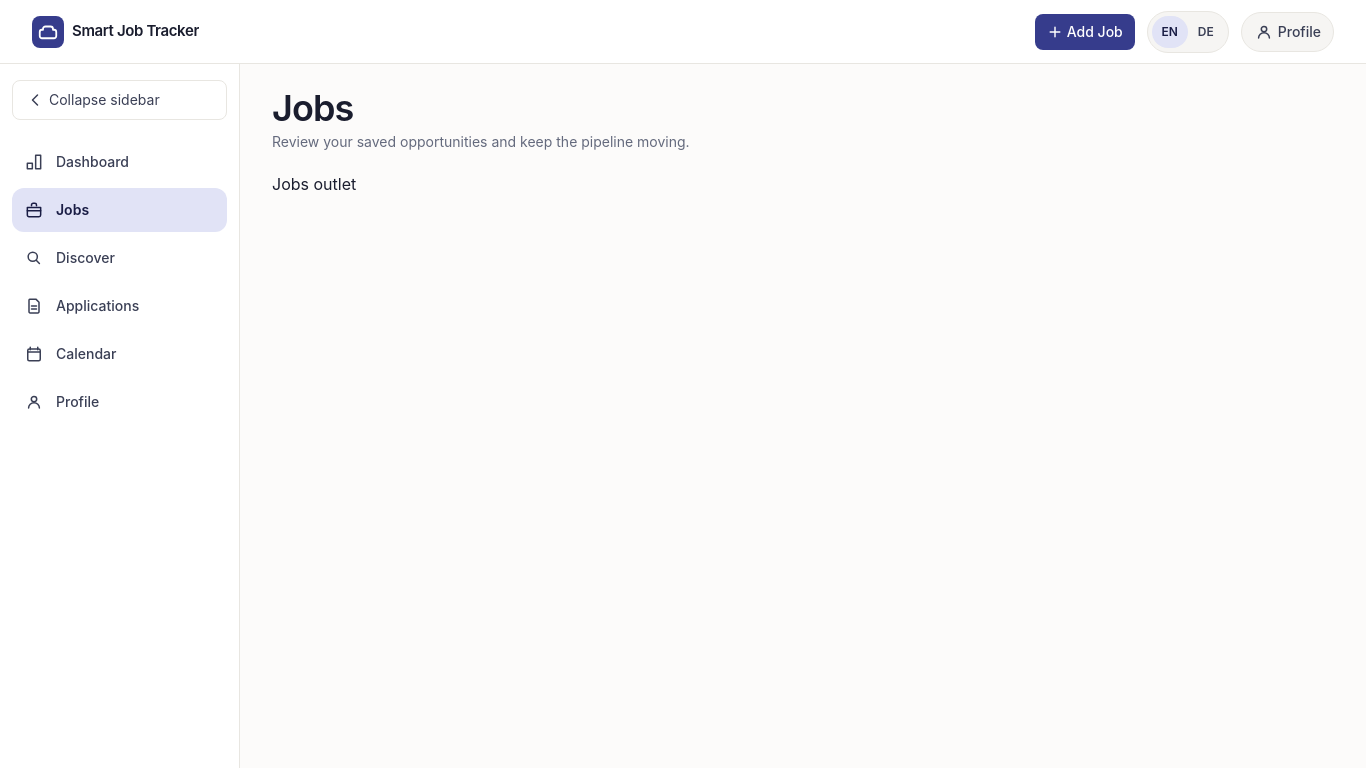
Test: AppShell › navigates through accessible navigation links
The width and height of the screenshot is (1366, 768).
Click the link "Dashboard": [76, 162] box [24,152,129,172]
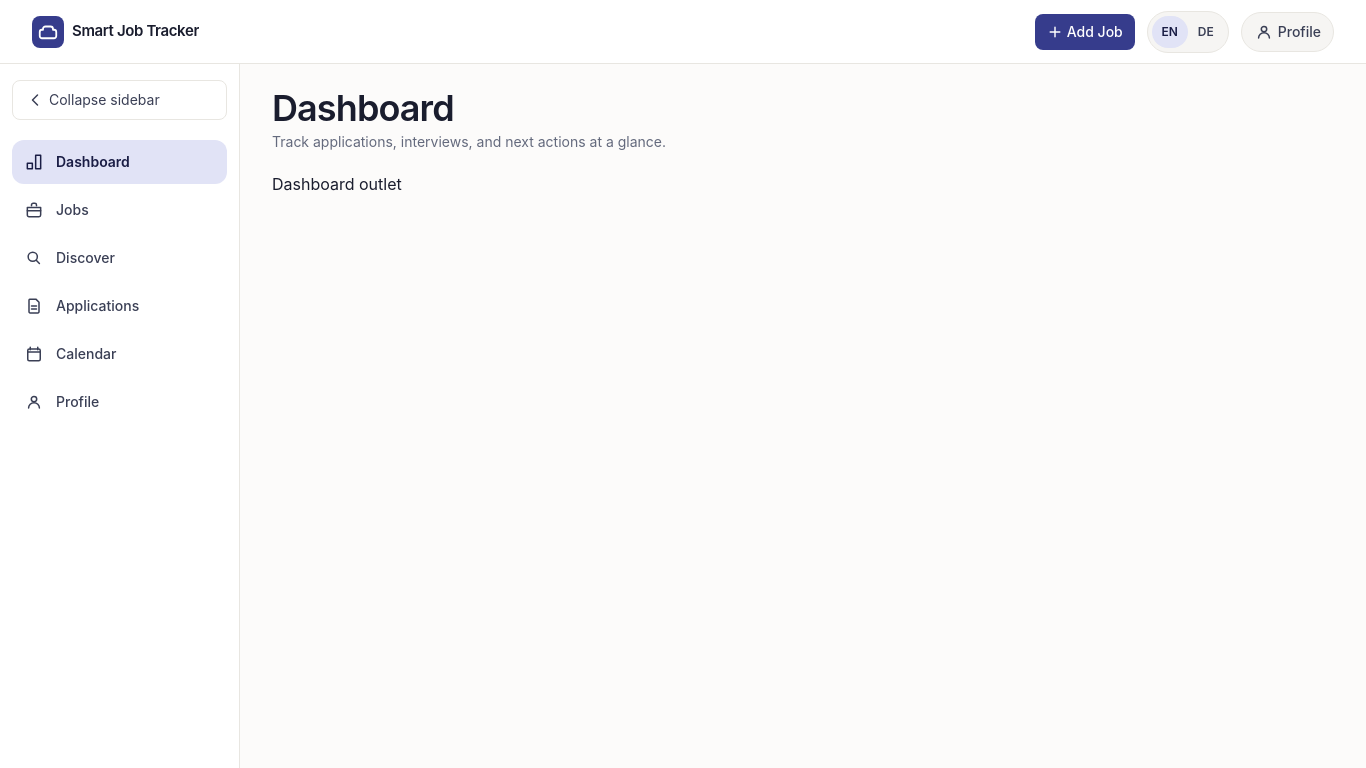
Check: the heading "Dashboard" is shown, box [272,86,454,130]
Check: the text "Dashboard outlet" is shown, box [272,174,402,194]
